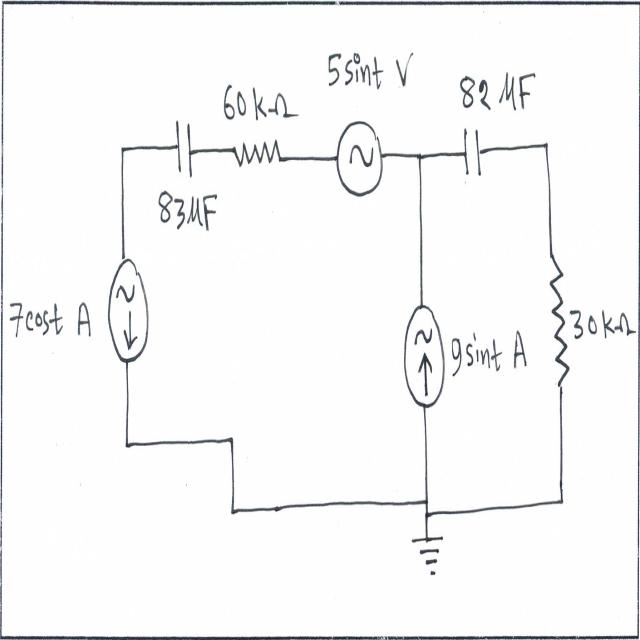ac_current: (334, 117, 384, 200)
capacitor: (170, 100, 197, 182), (459, 121, 485, 181)
current_source: (400, 296, 448, 409), (104, 256, 150, 372)
ground: (410, 532, 448, 583)
resistor: (545, 250, 573, 399), (230, 136, 284, 176)
